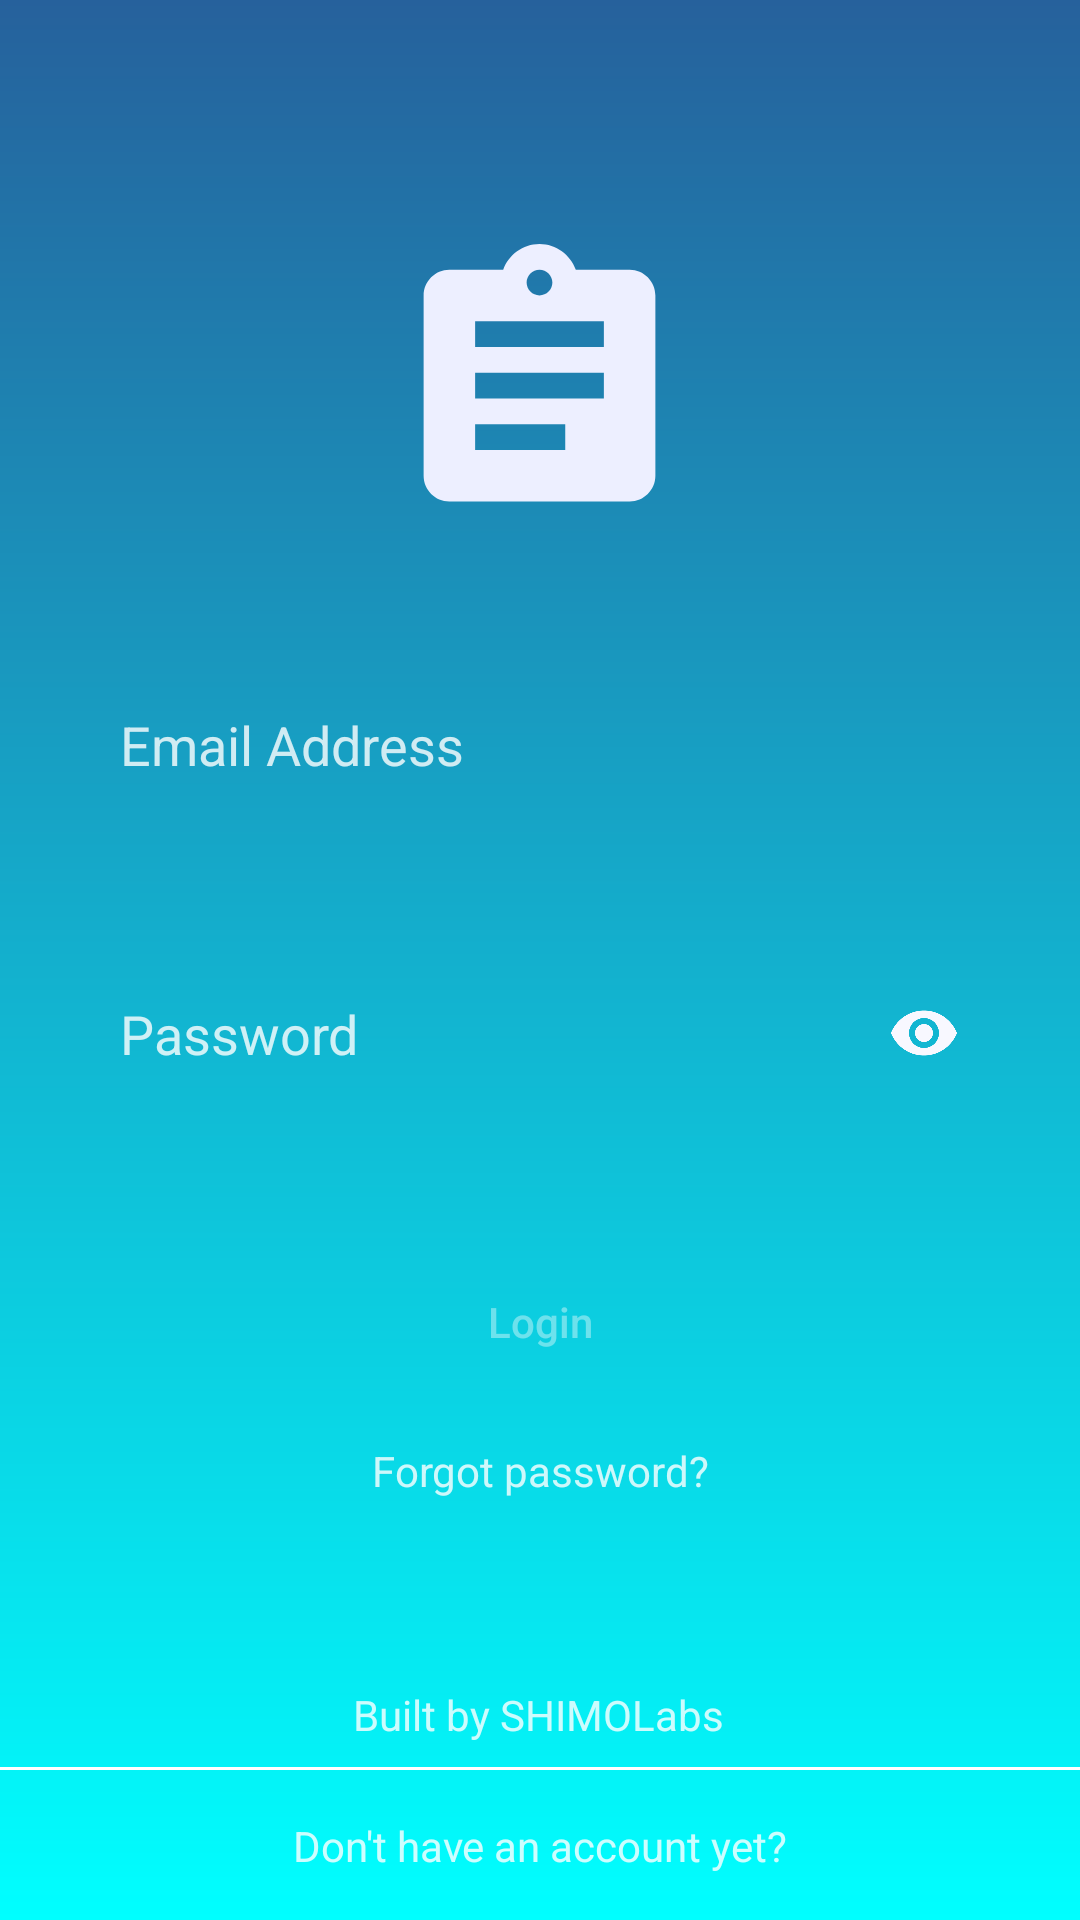

Where icons sit on this 1080 × 1920 app screen, as bbox=[x1, y1, x2, y2]:
assignment: bbox=[423, 244, 656, 502]
